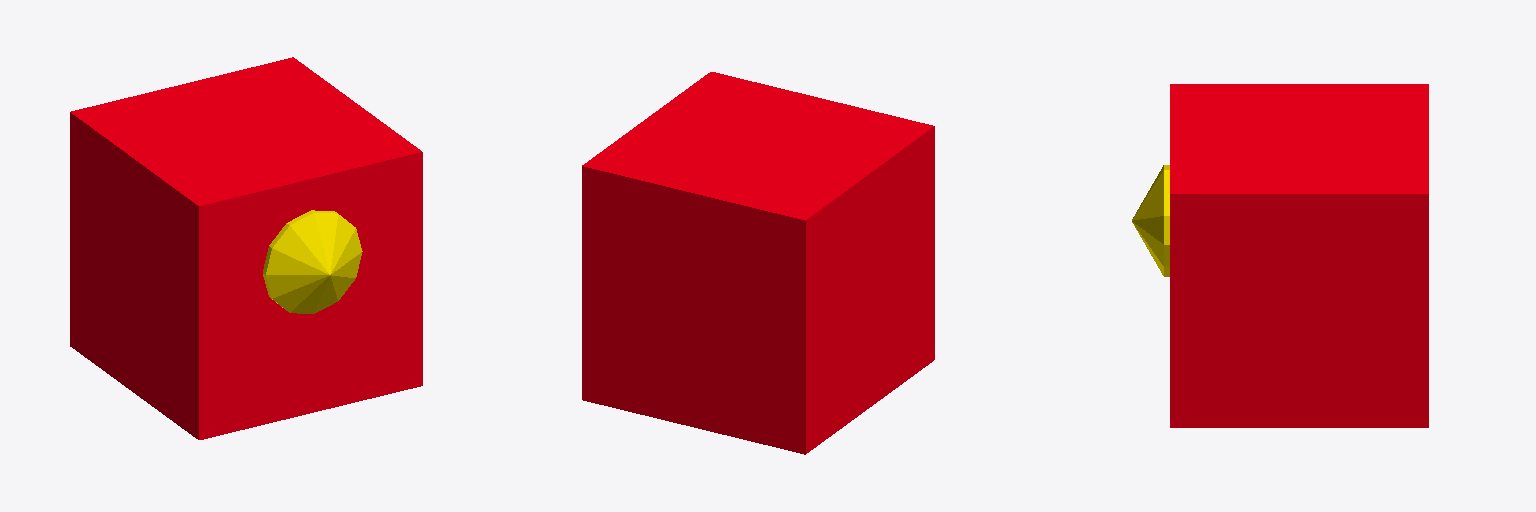
3 views of the same model, side by side, from view 1: azimuth 30°, elevation 25°; view 2: azimuth 150°, elevation 25°; view 3: azimuth 270°, elevation 25° (orthographic).
Parts seen in each view (by area): view 1: Cube, 球_球.001; view 2: Cube; view 3: Cube, 球_球.001.
Boxes of the visible parts, x1,y1,x2,y2 form: Cube: [70, 57, 422, 439]; 球_球.001: [263, 210, 362, 313]; Cube: [582, 72, 934, 454]; Cube: [1170, 84, 1428, 427]; 球_球.001: [1132, 165, 1169, 276].
Size of the model in its own units: 2 by 2 by 2.3.
2 materials, 1 textured.